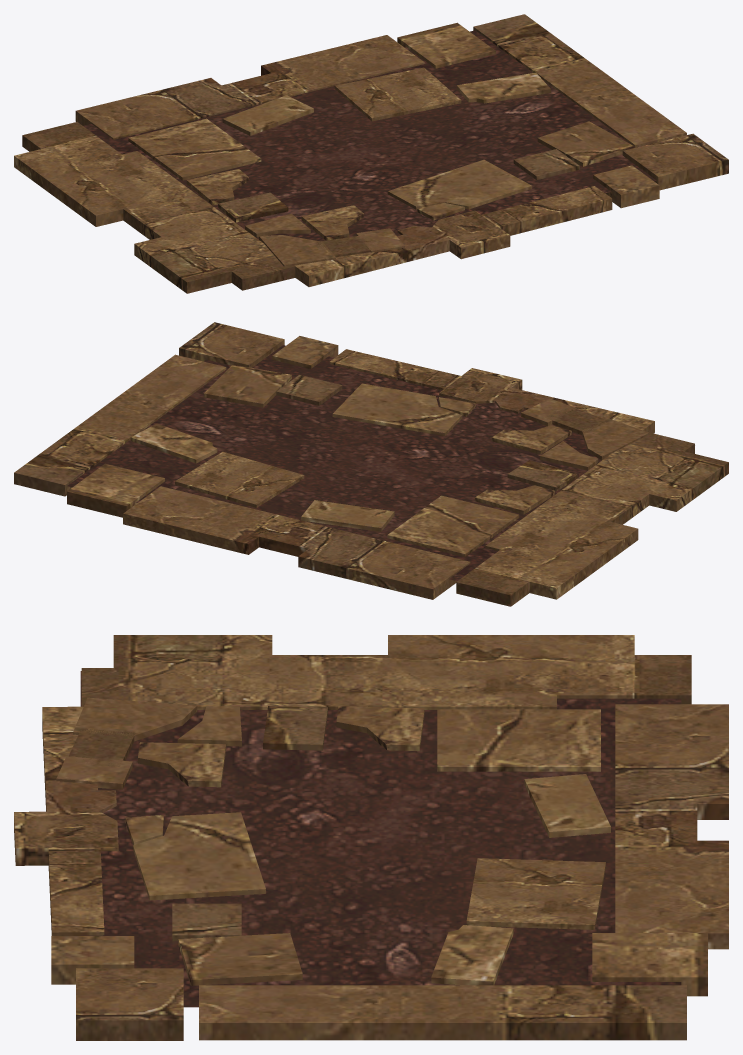
The model's file is Scene_suishizu.FBX.
The picture shows the model from 3 angles, top to bottom: view 1: azimuth 30°, elevation 25°; view 2: azimuth 150°, elevation 25°; view 3: azimuth 270°, elevation 25°; orthographic projection. The views are drawn at different scales.
Parts seen in each view (by area): view 1: Scene_suishizu; view 2: Scene_suishizu; view 3: Scene_suishizu.
Boxes of the visible parts, left/top/right/bottom form: Scene_suishizu: left=14, top=14, right=728, bottom=293; Scene_suishizu: left=14, top=322, right=728, bottom=606; Scene_suishizu: left=14, top=635, right=728, bottom=1040.
Bounding box in the file's own units: 10.09 × 0.2588 × 7.84.
